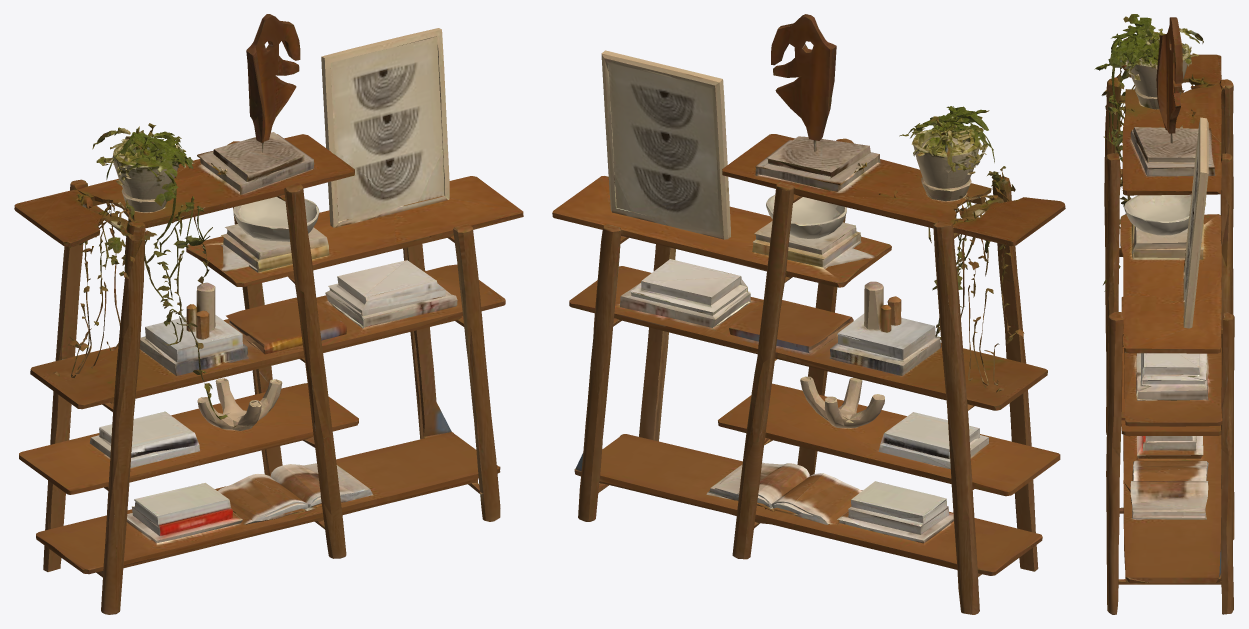
3 views of the same model, side by side, from view 1: azimuth 30°, elevation 25°; view 2: azimuth 150°, elevation 25°; view 3: azimuth 270°, elevation 25° (orthographic). The views are drawn at different scales.
Size of the model in its own units: 1.74 by 1.9 by 0.4797.
1 material, 1 textured.
